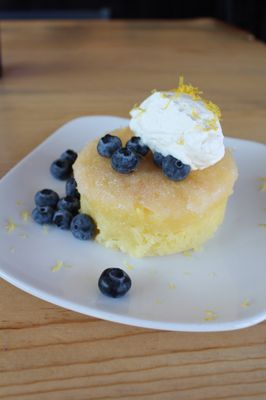curry: (1, 14, 266, 357)
sushi: (72, 76, 240, 259)
